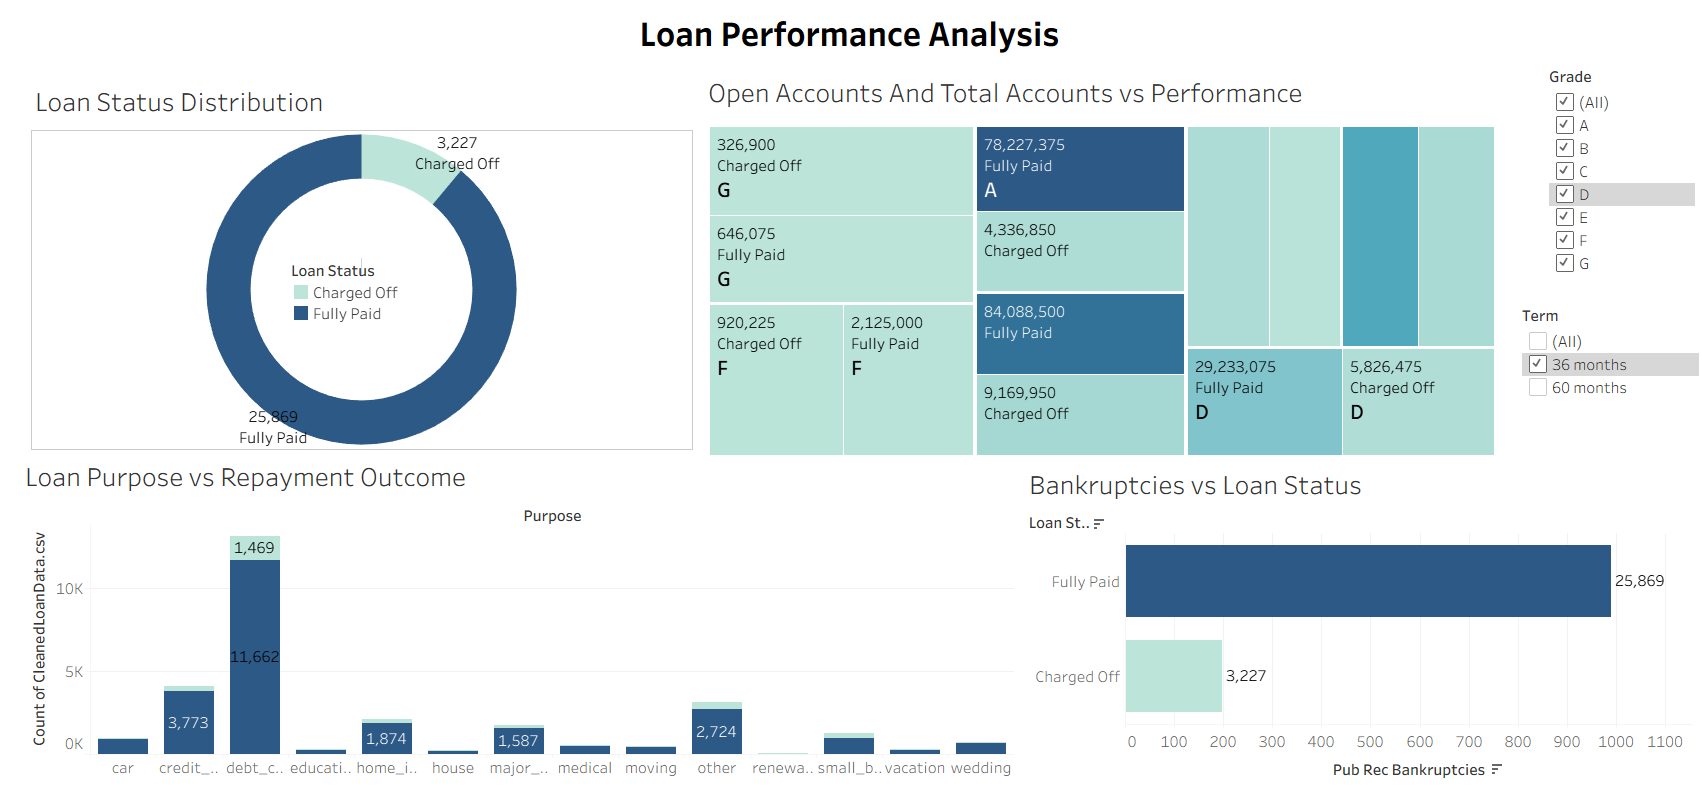

What the dashboard file says about the page in this screenshot:
{"tool":"tableau","page":{"name":"LoanPerformanceAnalysis","canvas":[1000,1000],"units":"permille","ordinal":2},"visuals":[{"type":"title","box":[4.7,10,990.6,66.2]},{"type":"filter","title":"Loan Status Distribution","param":"[federated.1oazph415arqml1f6i4t30bievzv].[none:grade:nk]","box":[910,84.7,85.3,268]},{"type":"worksheet","title":"Open Accounts And Total Accounts vs Performance","mark":"Square","box":[414.8,91.1,465.7,486.9]},{"type":"worksheet","title":"Loan Status Distribution","mark":"Pie","rows":["Calculation_2661627427366940683","Calculation_2661627427366940683"],"box":[20.4,102.4,387.8,461.4]},{"type":"legend","title":"Loan Status Distribution","param":"[federated.1oazph415arqml1f6i4t30bievzv].[none:loan_status:nk]","box":[172.5,327.4,129.9,107.5]},{"type":"filter","title":"Loan Status Distribution","param":"[federated.1oazph415arqml1f6i4t30bievzv].[none:term:nk]","box":[894.2,383.1,103.9,122.6]},{"type":"worksheet","title":"Loan Purpose vs Repayment Outcome","mark":"Automatic","rows":["CleanedLoanData.csv_94D360BEC3604724AF2DA5FFF7AA7B67"],"cols":["purpose"],"box":[14.7,570.5,581.7,404.5]},{"type":"worksheet","title":"Bankruptcies vs Loan Status","mark":"Bar","rows":["loan_status"],"cols":["pub_rec_bankruptcies"],"box":[602.8,580.5,391.3,404.5]}]}

Visuals, with their boxes on the dashboard's canvas, which has no fixed pixel size, in thousandths of its width and height (x1, y1, x2, y2). These are canvas units, not pixel positions in the 1702x792 screenshot, which may show the page scaled, cropped or inside an application window:
title: 5, 10, 995, 76
"Loan Status Distribution" filter: 910, 85, 995, 353
"Open Accounts And Total Accounts vs Performance" worksheet (Square marks): 415, 91, 880, 578
"Loan Status Distribution" worksheet (Pie marks): 20, 102, 408, 564
"Loan Status Distribution" legend: 172, 327, 302, 435
"Loan Status Distribution" filter: 894, 383, 998, 506
"Loan Purpose vs Repayment Outcome" worksheet: 15, 570, 596, 975
"Bankruptcies vs Loan Status" worksheet (Bar marks): 603, 580, 994, 985
